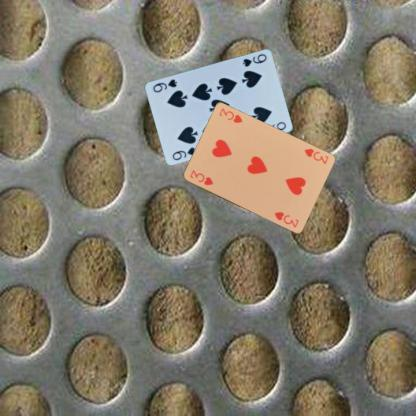3h: (300, 146, 330, 166), (188, 168, 214, 186)
9s: (240, 50, 268, 68), (170, 145, 198, 162)
